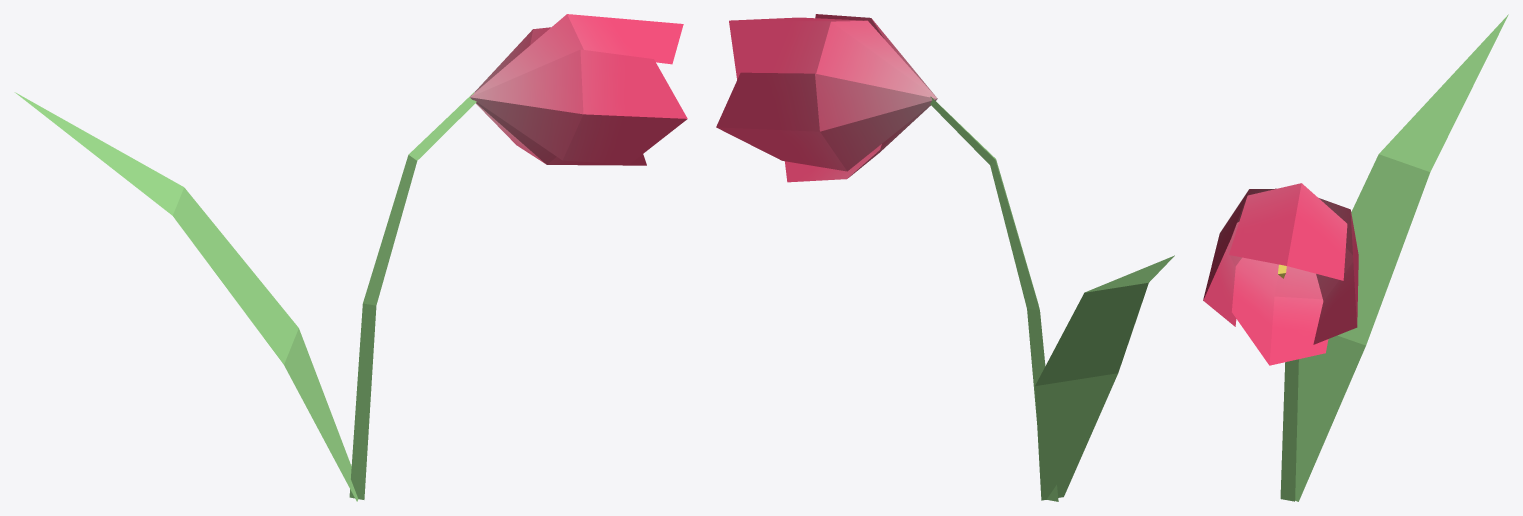
The model's file is Flower_f_TwoS_12.fbx.
The picture shows the model from 3 angles, left to right: view 1: azimuth 30°, elevation 25°; view 2: azimuth 150°, elevation 25°; view 3: azimuth 270°, elevation 25°; orthographic projection. The views are drawn at different scales.
Parts seen in each view (by area): view 1: Flower_f_TwoS_12; view 2: Flower_f_TwoS_12; view 3: Flower_f_TwoS_12.
Boxes of the visible parts, x1,y1,x2,y2 form: Flower_f_TwoS_12: (14,14,687,501); Flower_f_TwoS_12: (716,14,1174,501); Flower_f_TwoS_12: (1203,14,1508,501).
Size of the model in its own units: 46.8 by 34.27 by 22.71.
